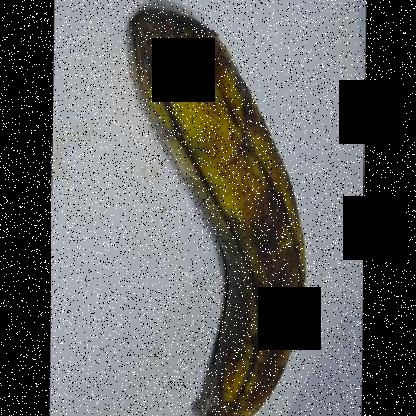overripe: (119, 0, 325, 415)
